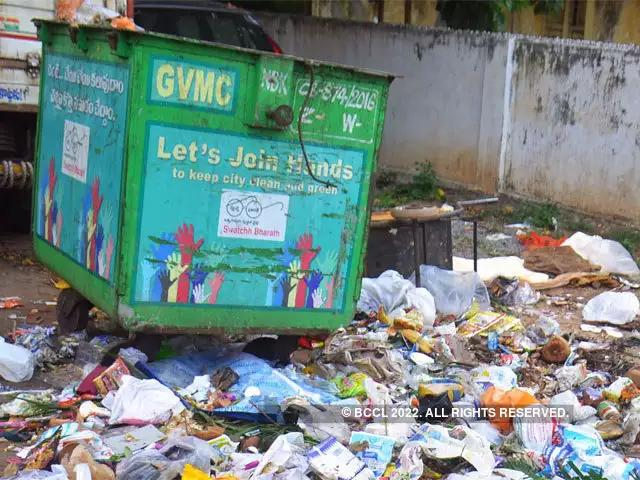garbage: (299, 268, 640, 480), (0, 343, 385, 480)
